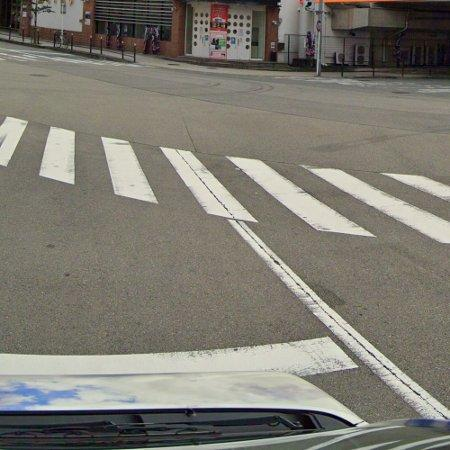crosswalks: (0, 112, 450, 250)
